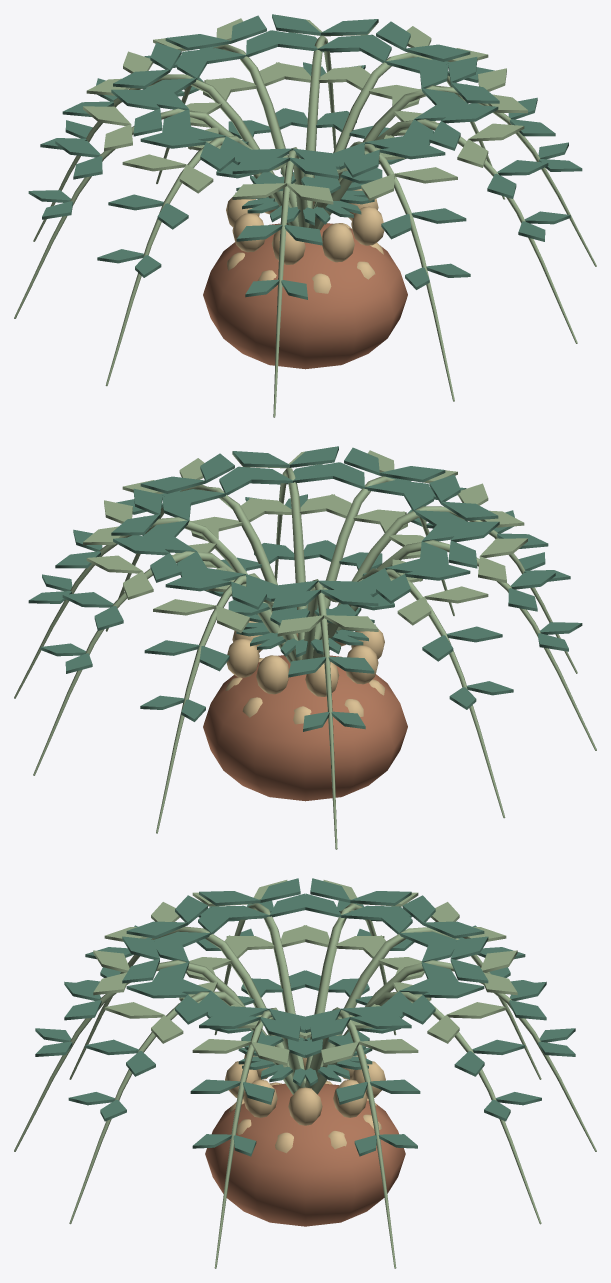
Rendered from primeval-frontier-cycad-rosette-3df44505__1731.glb.
3 views of the same model, one above another, from view 1: azimuth 30°, elevation 25°; view 2: azimuth 150°, elevation 25°; view 3: azimuth 270°, elevation 25° (orthographic). The views are drawn at different scales.
Parts seen in each view (by area): view 1: cycad-rosette; view 2: cycad-rosette; view 3: cycad-rosette.
Part boxes in pixels (left/top/right/bottom): cycad-rosette: left=14, top=14, right=596, bottom=417; cycad-rosette: left=14, top=446, right=596, bottom=849; cycad-rosette: left=14, top=878, right=596, bottom=1268.
Size of the model in its own units: 2.1 by 1.07 by 2.21.
